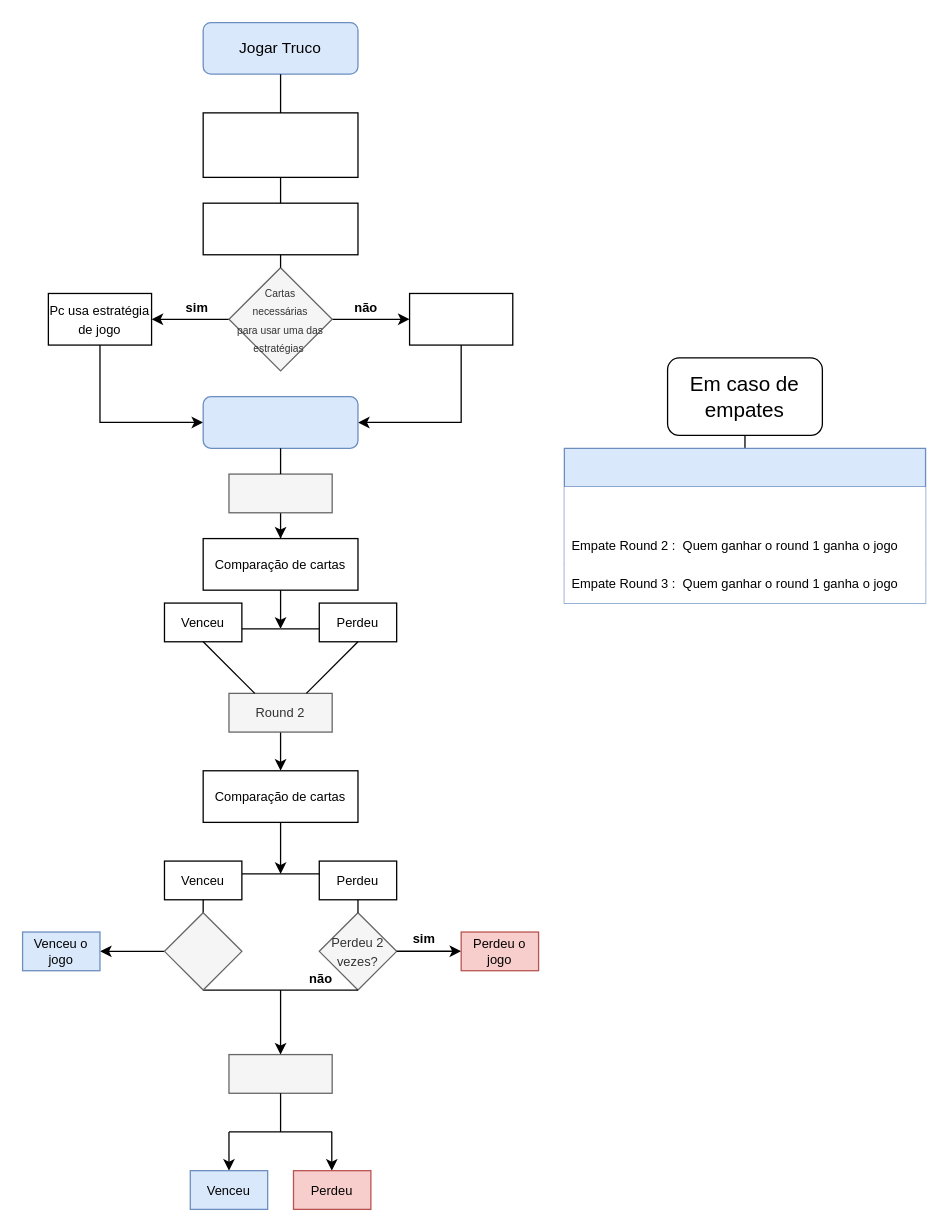
Image size: 948x1232. Some labels were removed from this diagram. The box of each missing label's shape, as (x1, y1, x2, y2) in pixels:
Adição aleatória de cartas na mão dos jogadores (pc e user): (202, 112, 358, 177)
Avaliação das cartas do pc: (202, 202, 358, 255)
Casos específicos de cada round: (563, 447, 926, 603)
Empate Round 1 : Quem ganhar o round 2 ganha o jogo: (564, 486, 925, 525)
Jogo começa: (202, 395, 358, 448)
Pc sem estratégia de jogo: (408, 292, 513, 345)
Round 1: (228, 473, 332, 513)
Round 3: (228, 1053, 332, 1093)
Venceu 2 vezes?: (163, 911, 242, 990)
